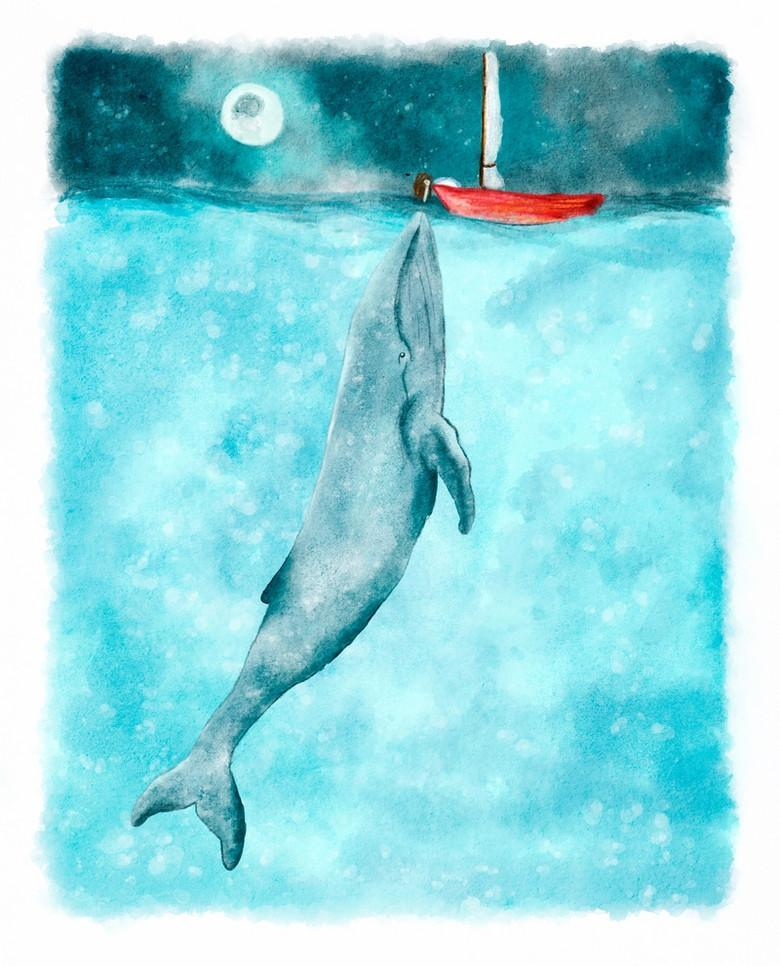fish: (130, 208, 513, 865)
